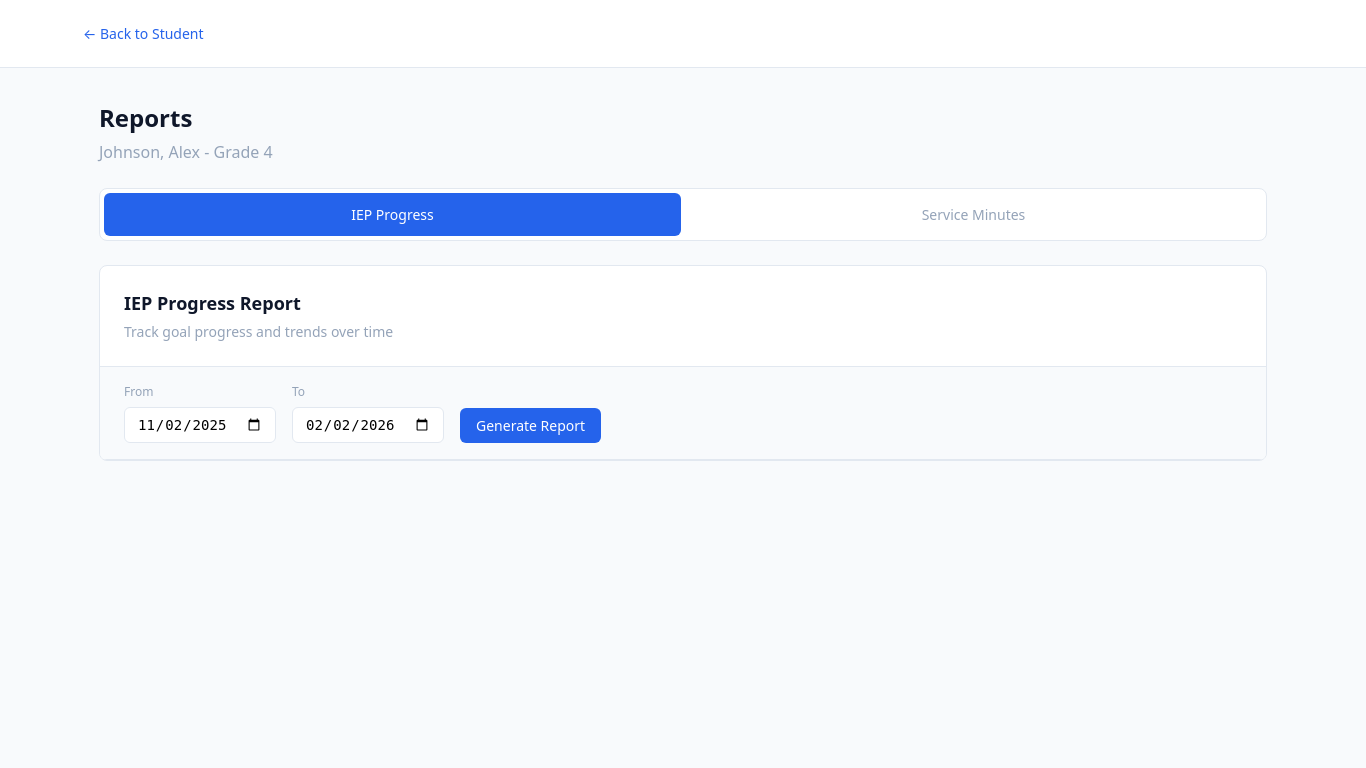
Reports Page › Error Handling › shows error message when IEP report fails
The image size is (1366, 768).
Click the button "Generate Report" at x=531, y=426, box 460,408 -> 601,443
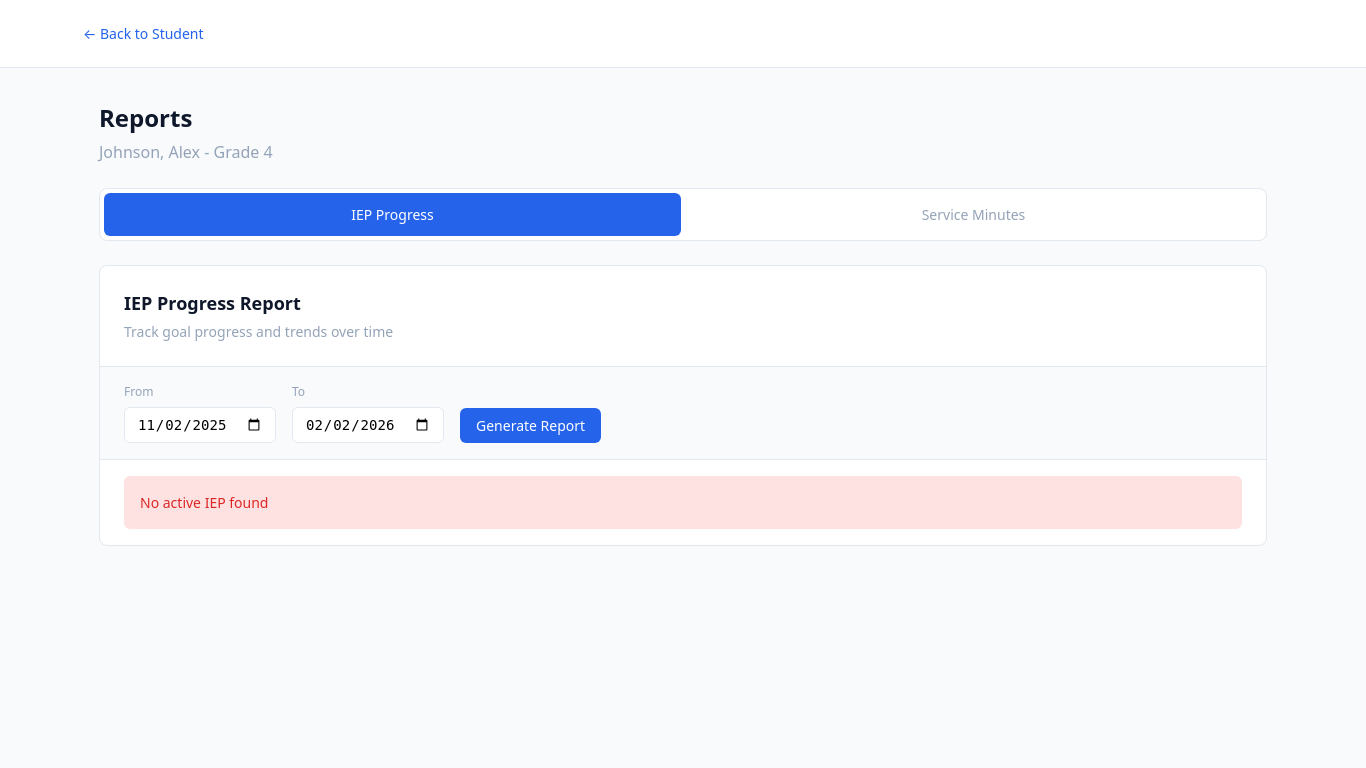
Now the text "No active IEP found" is shown, box 124,476 -> 1242,529
